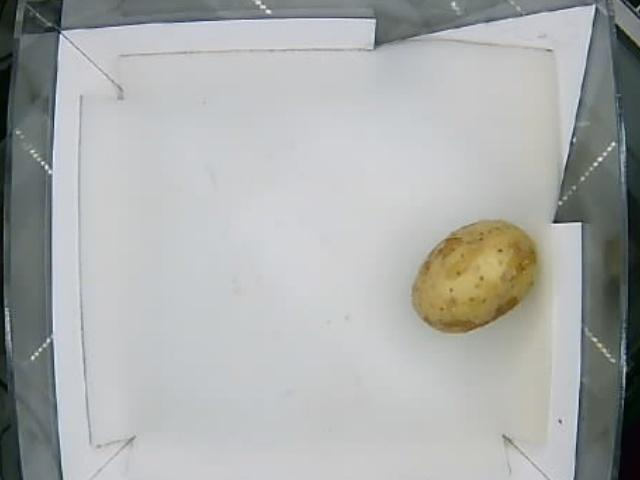Potato: (407, 221, 540, 337)
